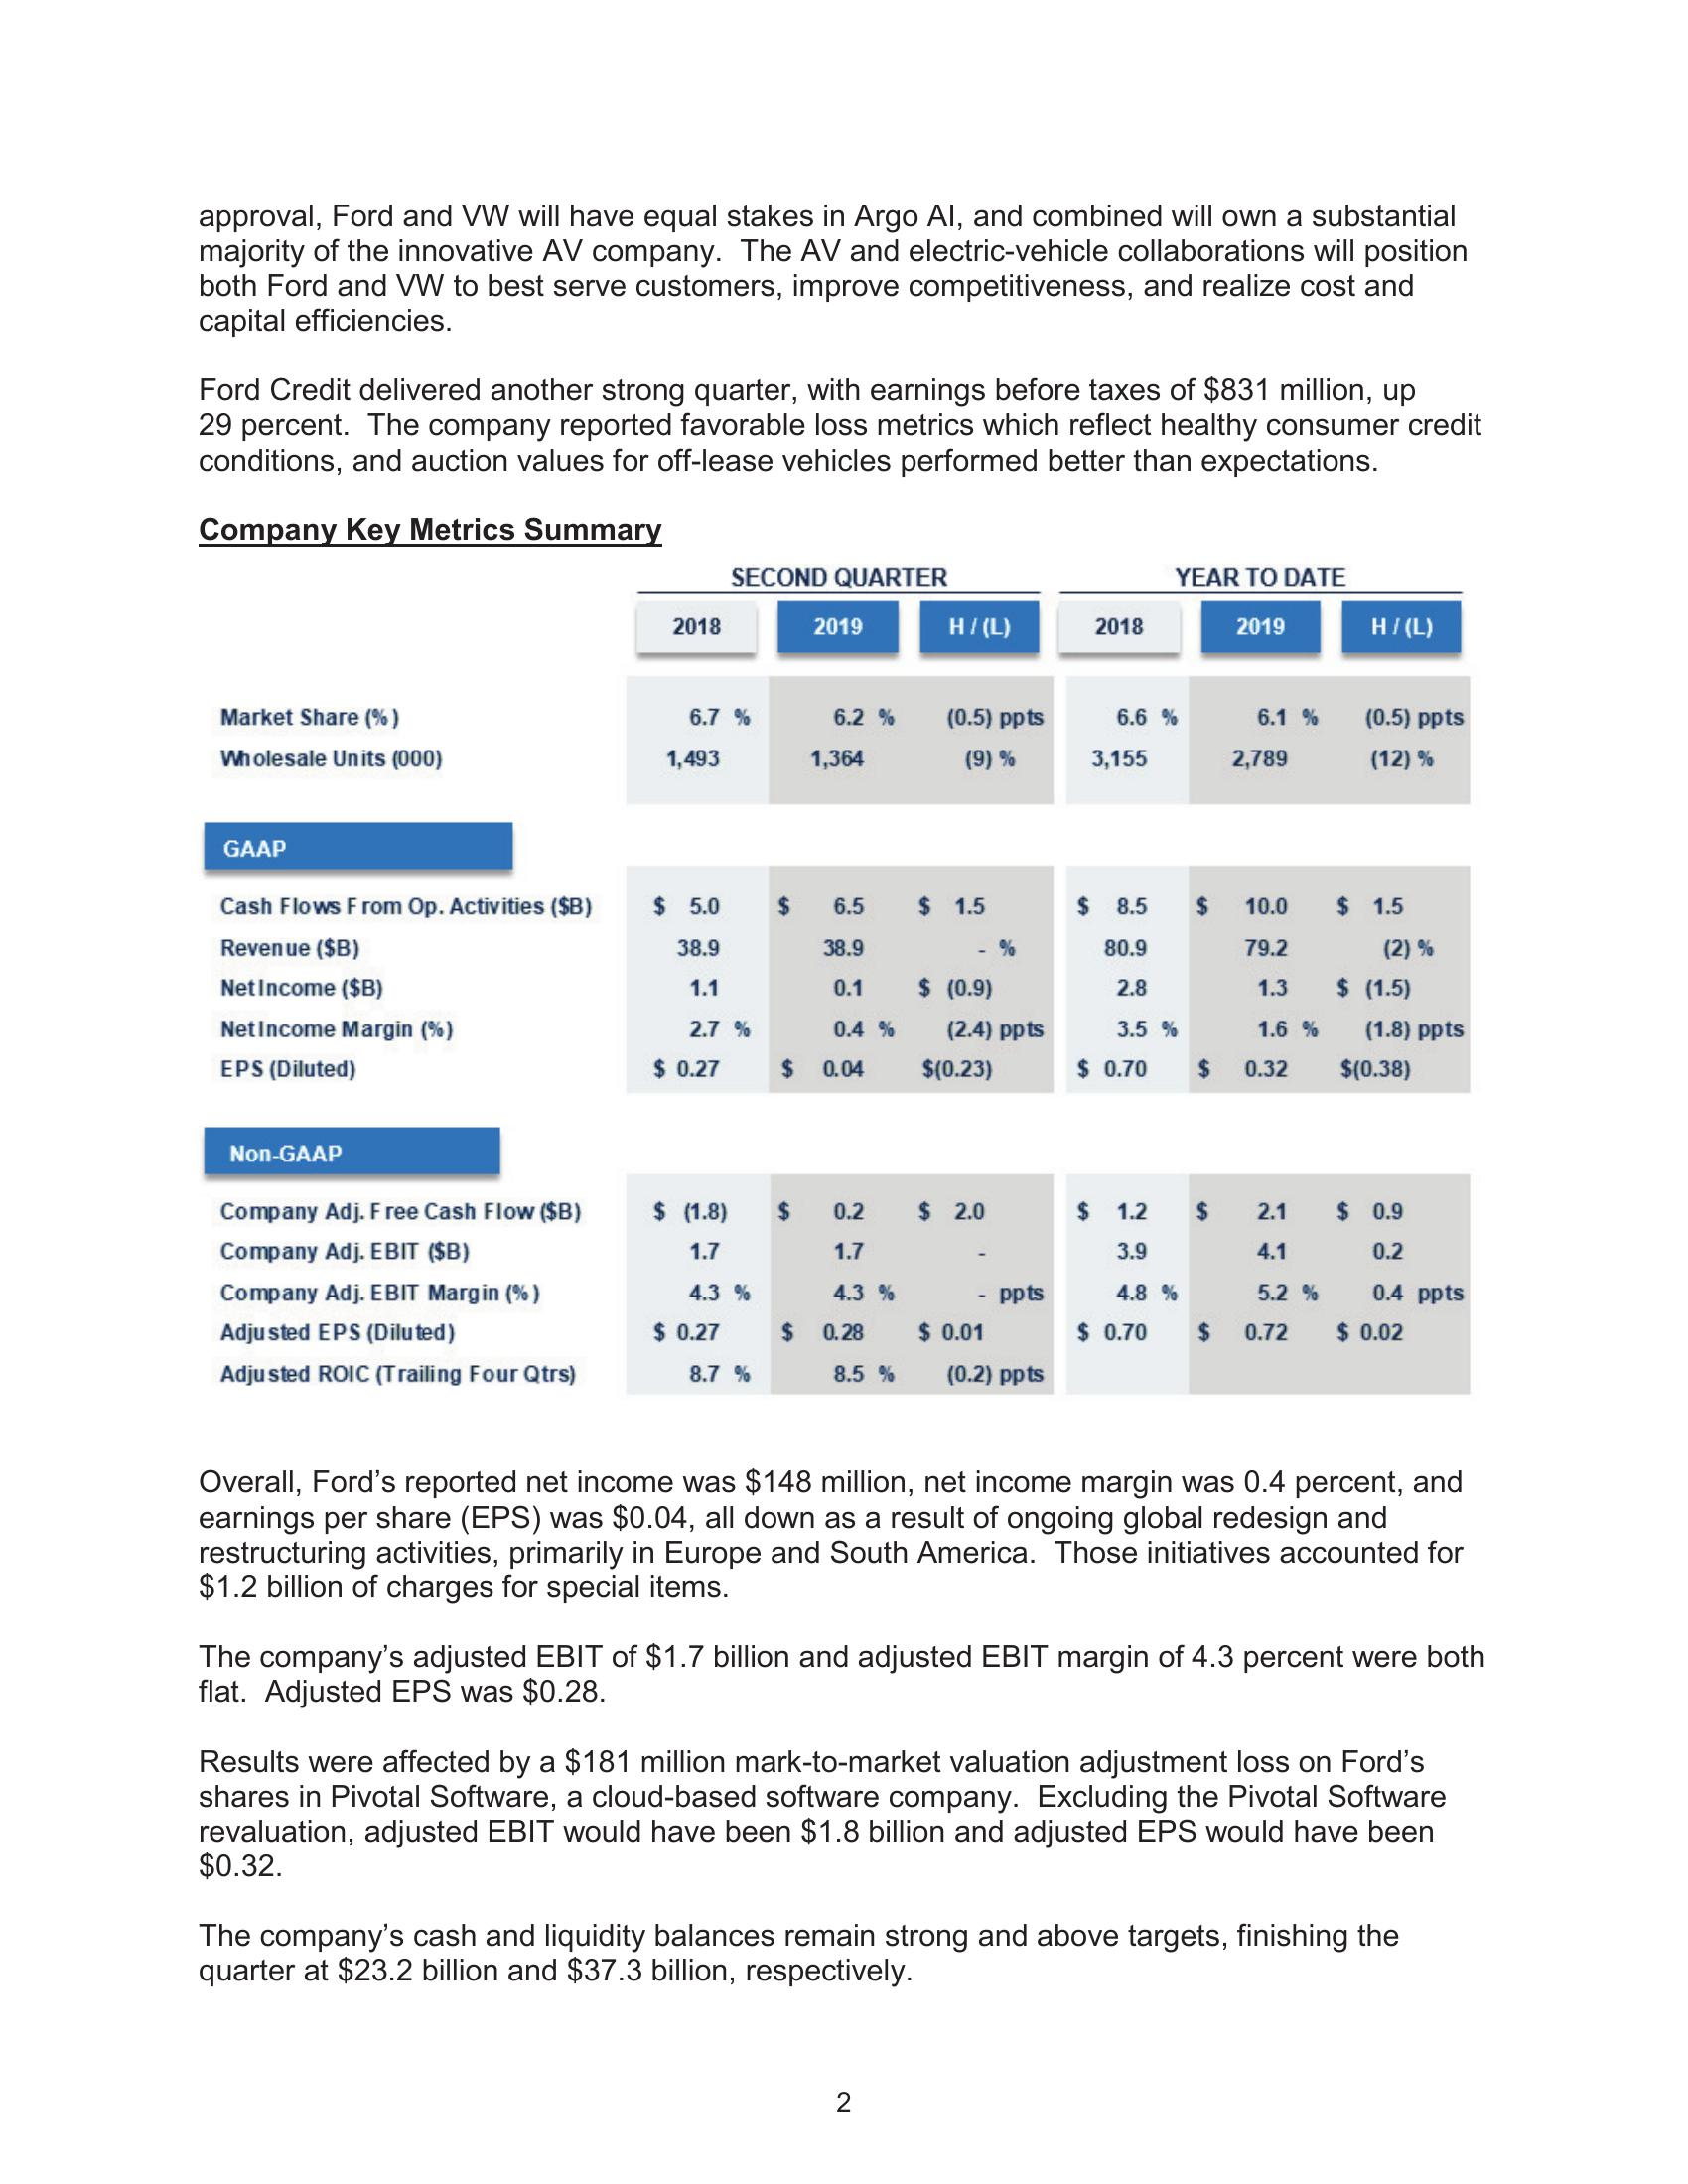table: (188, 502, 1482, 1402)
